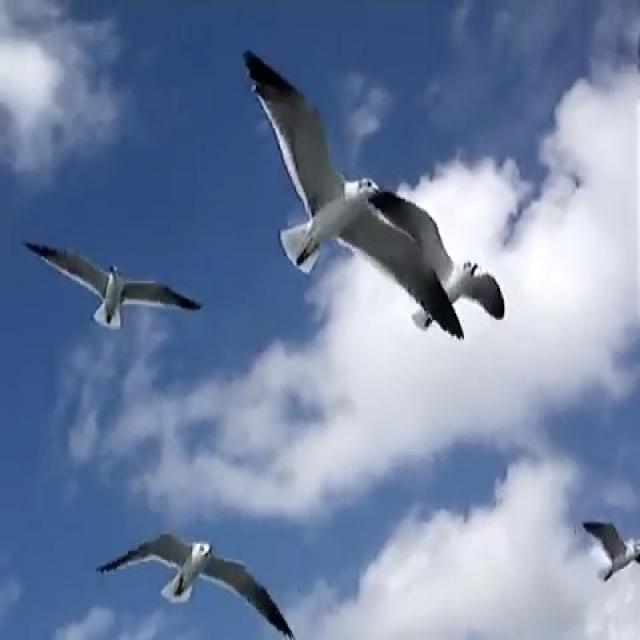bird: (220, 52, 462, 358), (82, 515, 304, 624), (376, 211, 548, 343), (31, 231, 189, 340), (584, 510, 640, 597)
